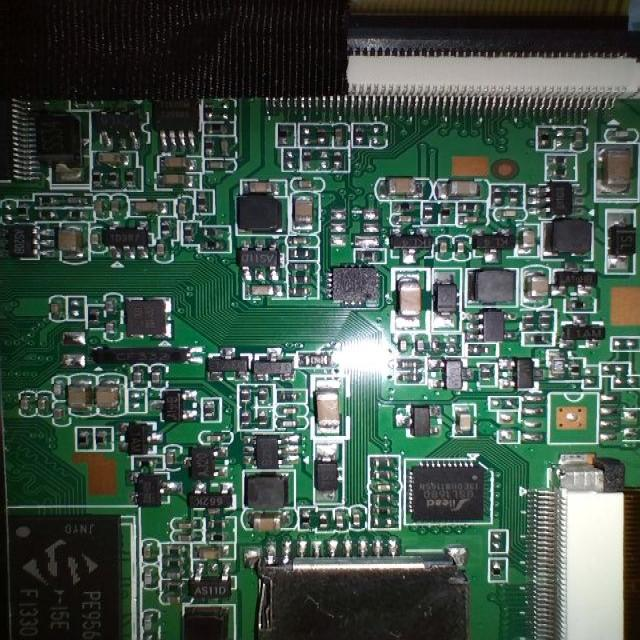capacitor: (590, 144, 640, 201), (388, 261, 428, 332), (310, 383, 351, 446), (97, 375, 131, 420), (57, 222, 89, 264), (290, 192, 322, 232), (61, 375, 94, 413), (444, 178, 482, 208), (524, 262, 551, 302), (385, 170, 418, 202), (241, 276, 282, 301), (243, 176, 289, 196), (48, 281, 66, 332), (155, 152, 195, 173), (457, 398, 477, 440), (154, 172, 193, 192), (518, 222, 538, 257), (253, 514, 281, 536), (196, 551, 224, 571), (21, 385, 34, 428), (138, 192, 159, 218), (100, 148, 126, 169), (139, 542, 160, 568), (37, 387, 50, 427), (200, 431, 229, 448), (155, 239, 171, 265), (176, 516, 196, 534), (496, 207, 523, 220), (334, 504, 346, 530), (461, 215, 485, 227), (273, 407, 305, 416), (350, 506, 360, 532), (170, 534, 196, 544)
resistor: (203, 99, 242, 125), (486, 556, 509, 596), (273, 114, 301, 143), (293, 506, 313, 536), (540, 154, 578, 168), (564, 358, 586, 382), (106, 166, 125, 190), (97, 428, 112, 458), (182, 220, 199, 246), (74, 429, 90, 456), (90, 304, 108, 328), (124, 172, 145, 192), (566, 298, 591, 314), (541, 170, 582, 179), (202, 242, 230, 255), (205, 223, 222, 243), (538, 127, 554, 147), (195, 191, 210, 211), (96, 170, 103, 190)
